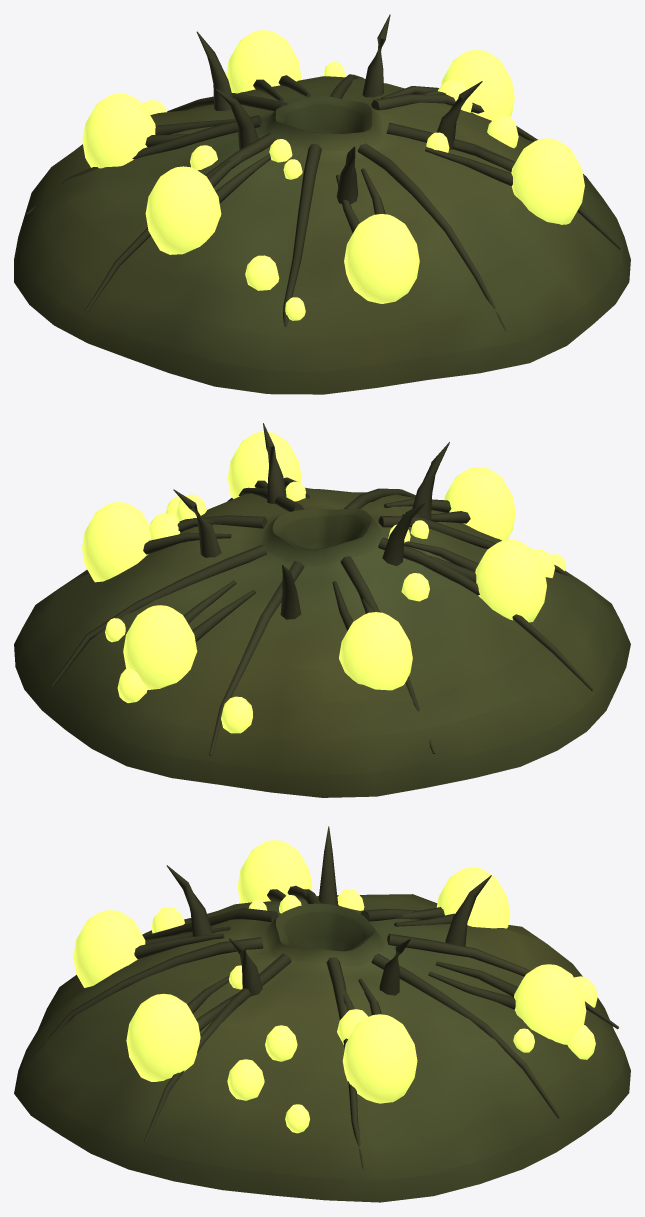
Rendered from nest.glb.
3 views of the same model, one above another, from view 1: azimuth 30°, elevation 25°; view 2: azimuth 150°, elevation 25°; view 3: azimuth 270°, elevation 25° (orthographic). The views are drawn at different scales.
Parts seen in each view (by area): view 1: nest_mound, nest_pods; view 2: nest_mound, nest_pods; view 3: nest_mound, nest_pods.
Boxes of the visible parts, box(x1,y1,x2,y2) form: nest_mound: box(14, 14, 630, 394); nest_pods: box(82, 30, 584, 320); nest_mound: box(14, 423, 630, 797); nest_pods: box(82, 431, 565, 733); nest_mound: box(14, 826, 630, 1202); nest_pods: box(73, 840, 597, 1133).
Size of the model in its own units: 82.96 by 28.46 by 82.51.
